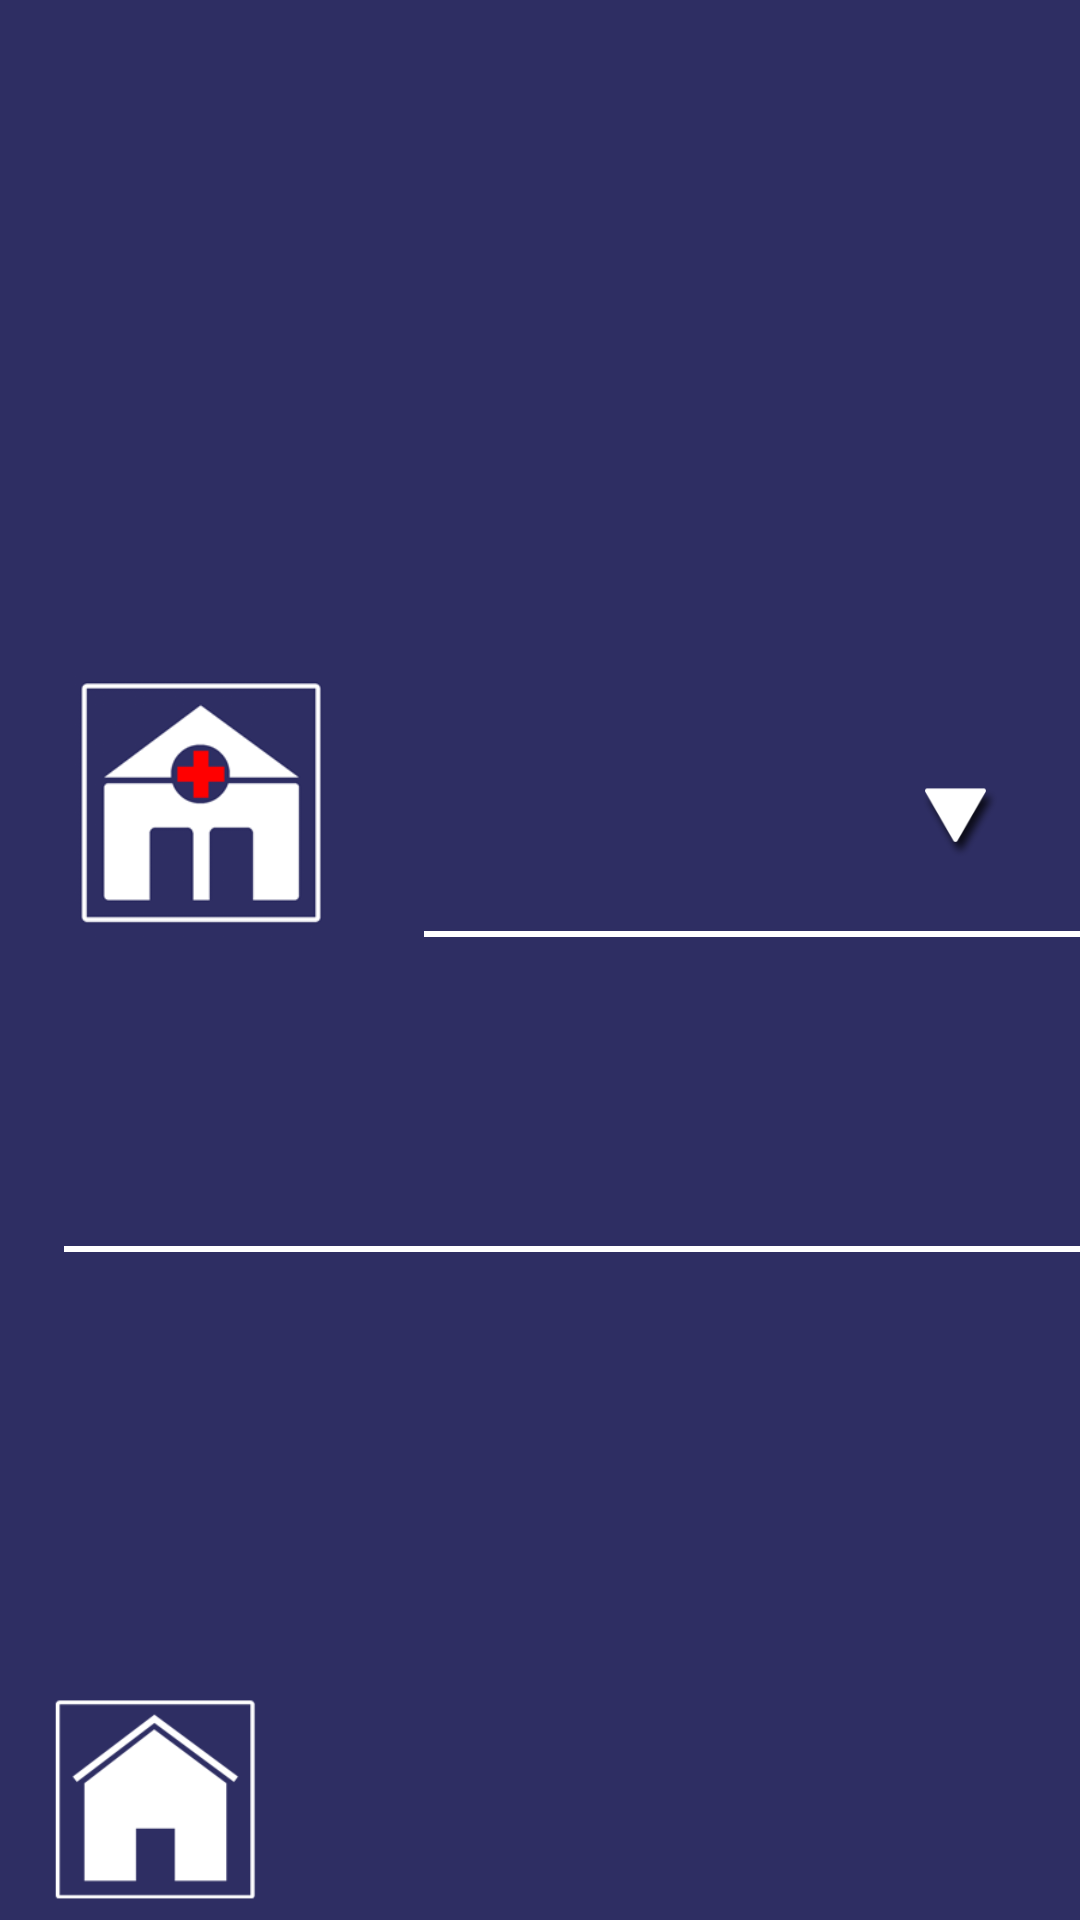

Screen size 1080w x 1920h. Icon name, then its box in pixels as (left=x1, top=y1, right=x2, bottom=y2):
home: (left=55, top=1700, right=255, bottom=1899)
hospital: (left=81, top=683, right=321, bottom=923)
